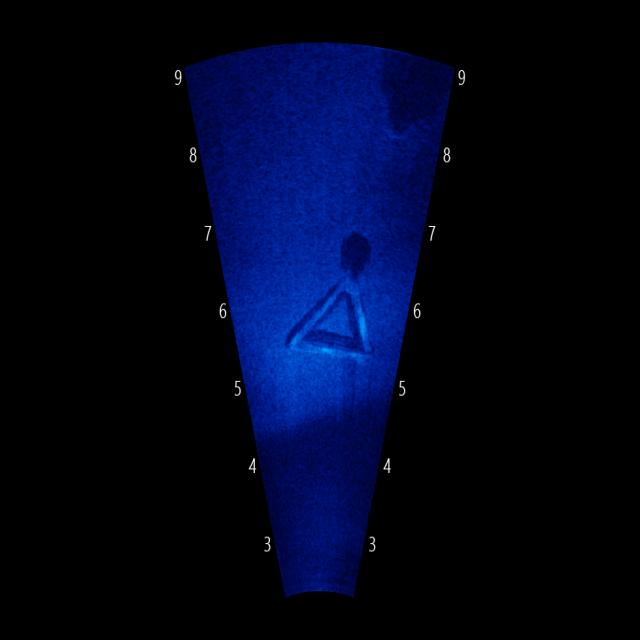triangle: (282, 252, 382, 382)
